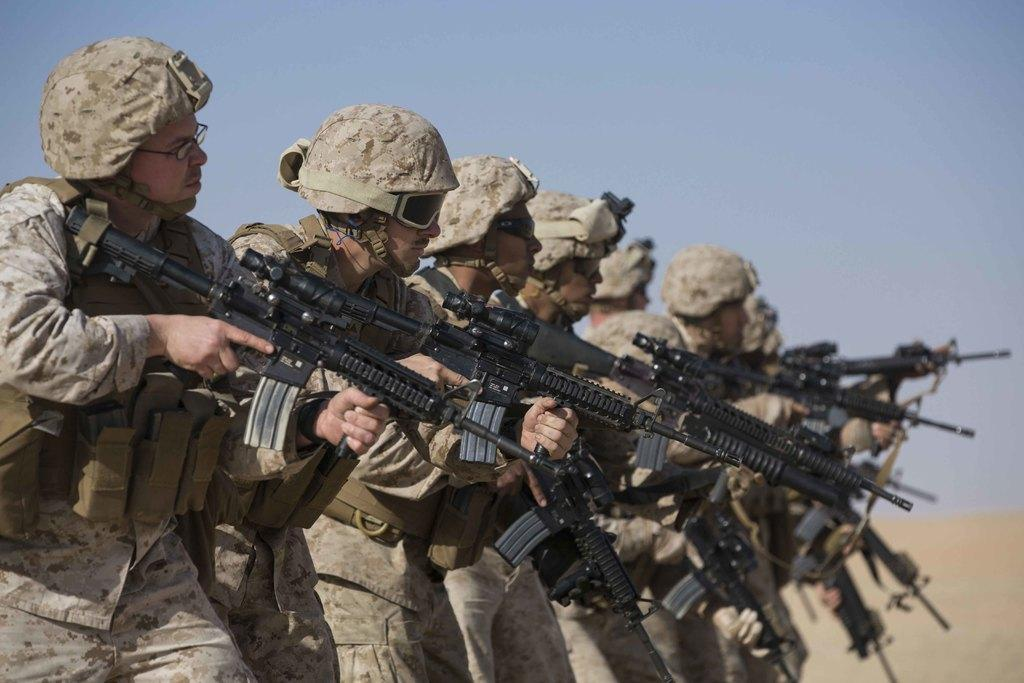Rifle: (67, 197, 559, 469)
